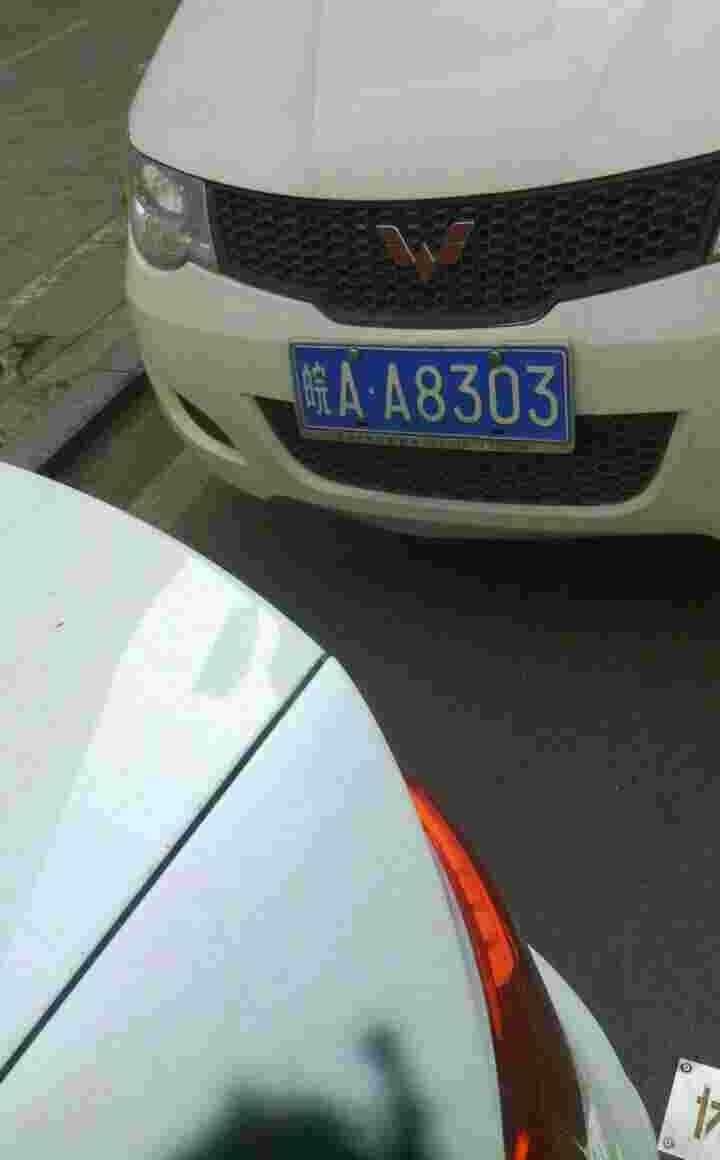license_plate: (297, 342, 576, 447)
